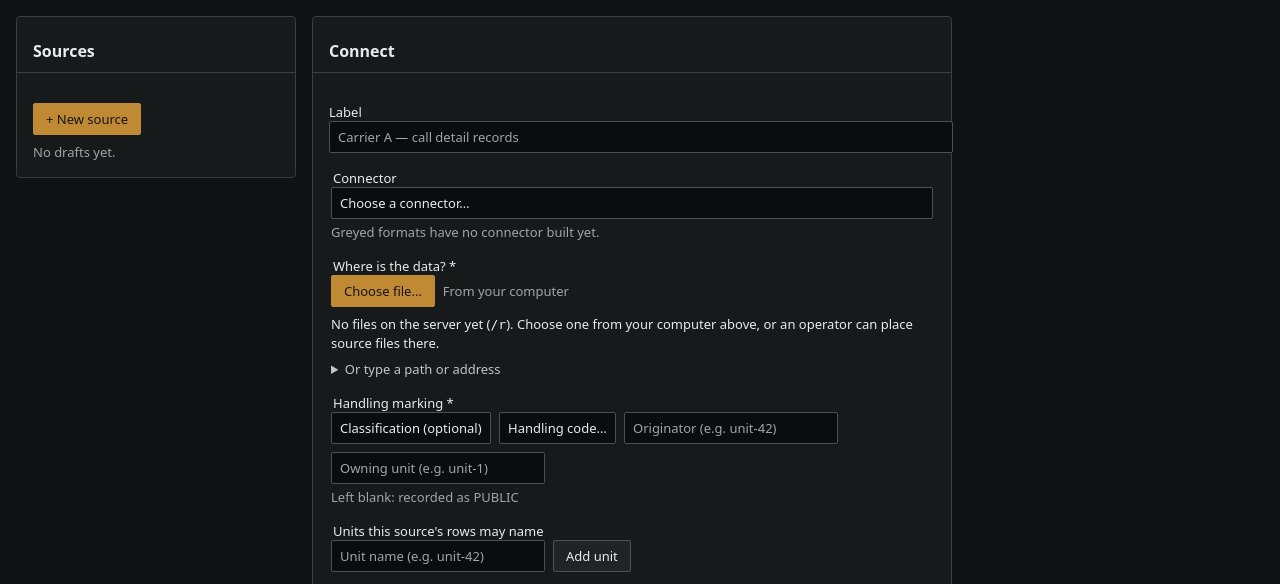
Connect: classification is optional and blank means PUBLIC › says beside the box what a blank classification becomes, and stops saying it once one is chosen
Check: the button "Choose file…" is shown, box [331, 274, 435, 306]
Check: the text "Left blank: recorded as PUBLIC" is shown, box [331, 488, 519, 506]
Select "OFFICIAL" in the dropdown named "Classification" at coordinates (411, 428), box [331, 412, 491, 444]
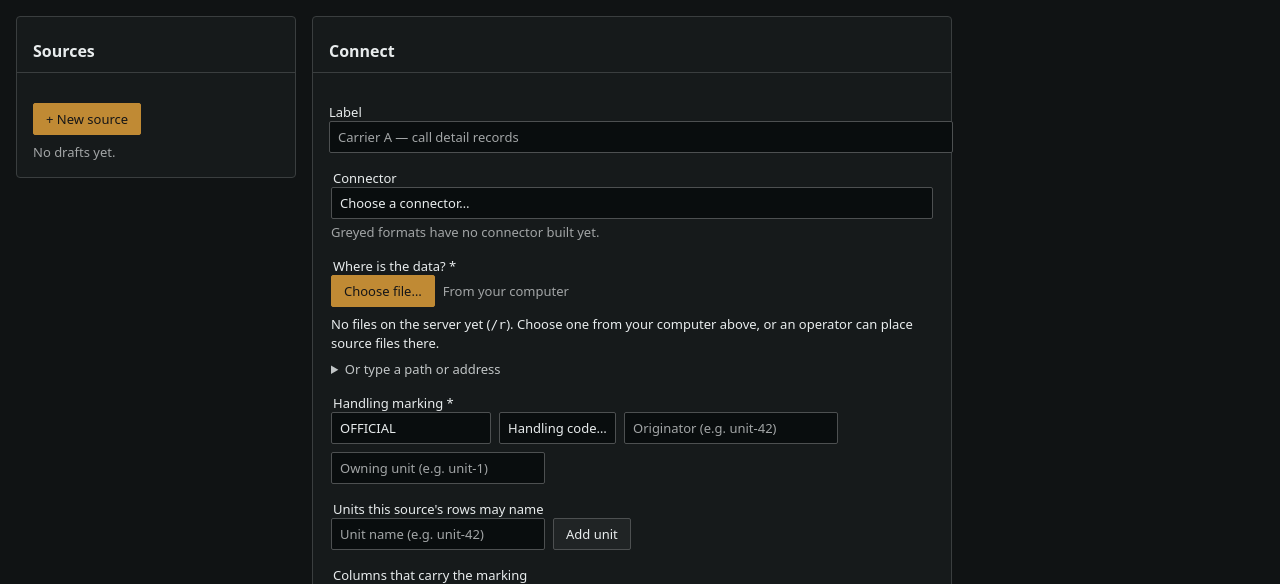
Check: the text "Left blank: recorded as PUBLIC" is gone
Select "Classification (optional)" in the dropdown named "Classification" at coordinates (411, 428), box [331, 412, 491, 444]
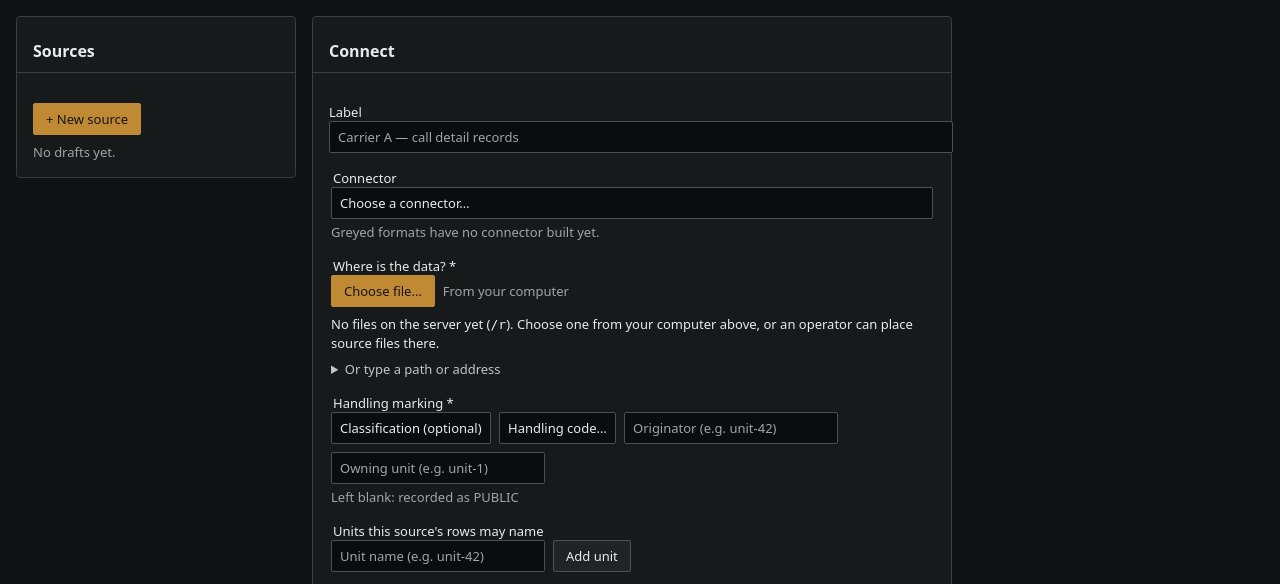
Check: the text "Left blank: recorded as PUBLIC" is shown, box [331, 488, 519, 506]
